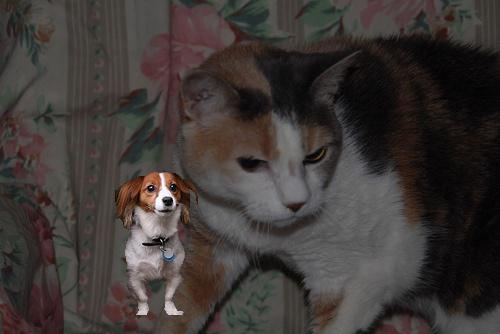tampered: (116, 173, 198, 315)
